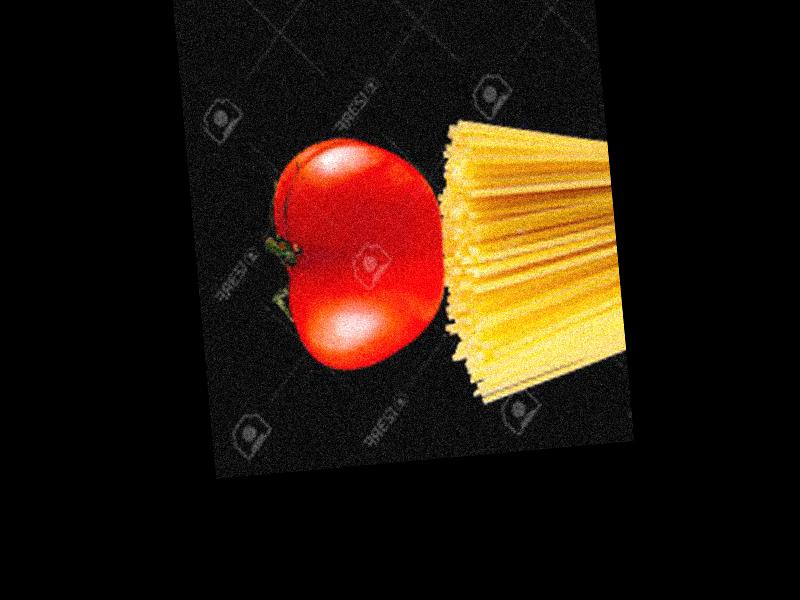Tomato: (266, 133, 454, 374)
